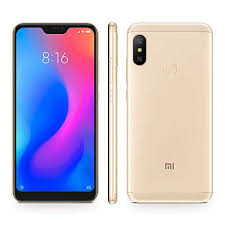mi: (11, 19, 100, 206), (123, 19, 212, 206)
